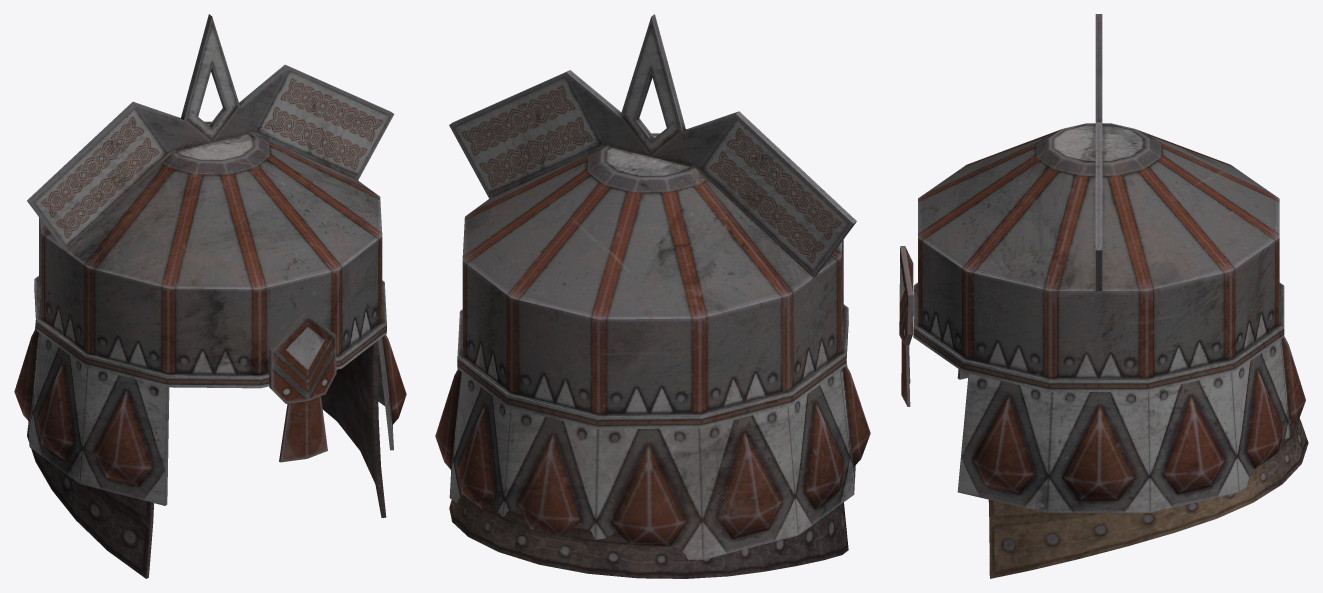
The model's file is sk_dwarf_iron_helmet_elite_a2.fbx.
The picture shows the model from 3 angles, left to right: view 1: azimuth 30°, elevation 25°; view 2: azimuth 150°, elevation 25°; view 3: azimuth 270°, elevation 25°; orthographic projection. The views are drawn at different scales.
Visible parts, largest first — view 1: sk_dwarf_iron_helmet_elite_a2; view 2: sk_dwarf_iron_helmet_elite_a2; view 3: sk_dwarf_iron_helmet_elite_a2.
Boxes of the visible parts, <box> form: sk_dwarf_iron_helmet_elite_a2: <box>14,14,406,578</box>; sk_dwarf_iron_helmet_elite_a2: <box>435,14,870,578</box>; sk_dwarf_iron_helmet_elite_a2: <box>899,14,1308,578</box>.
Bounding box in the file's own units: 0.3245 × 0.3089 × 0.4204.
1 material, 1 textured.
